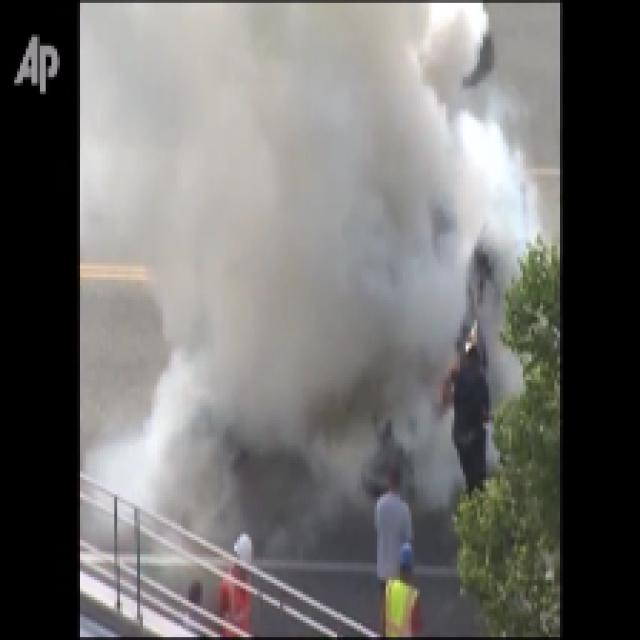smoke: (168, 31, 450, 477)
